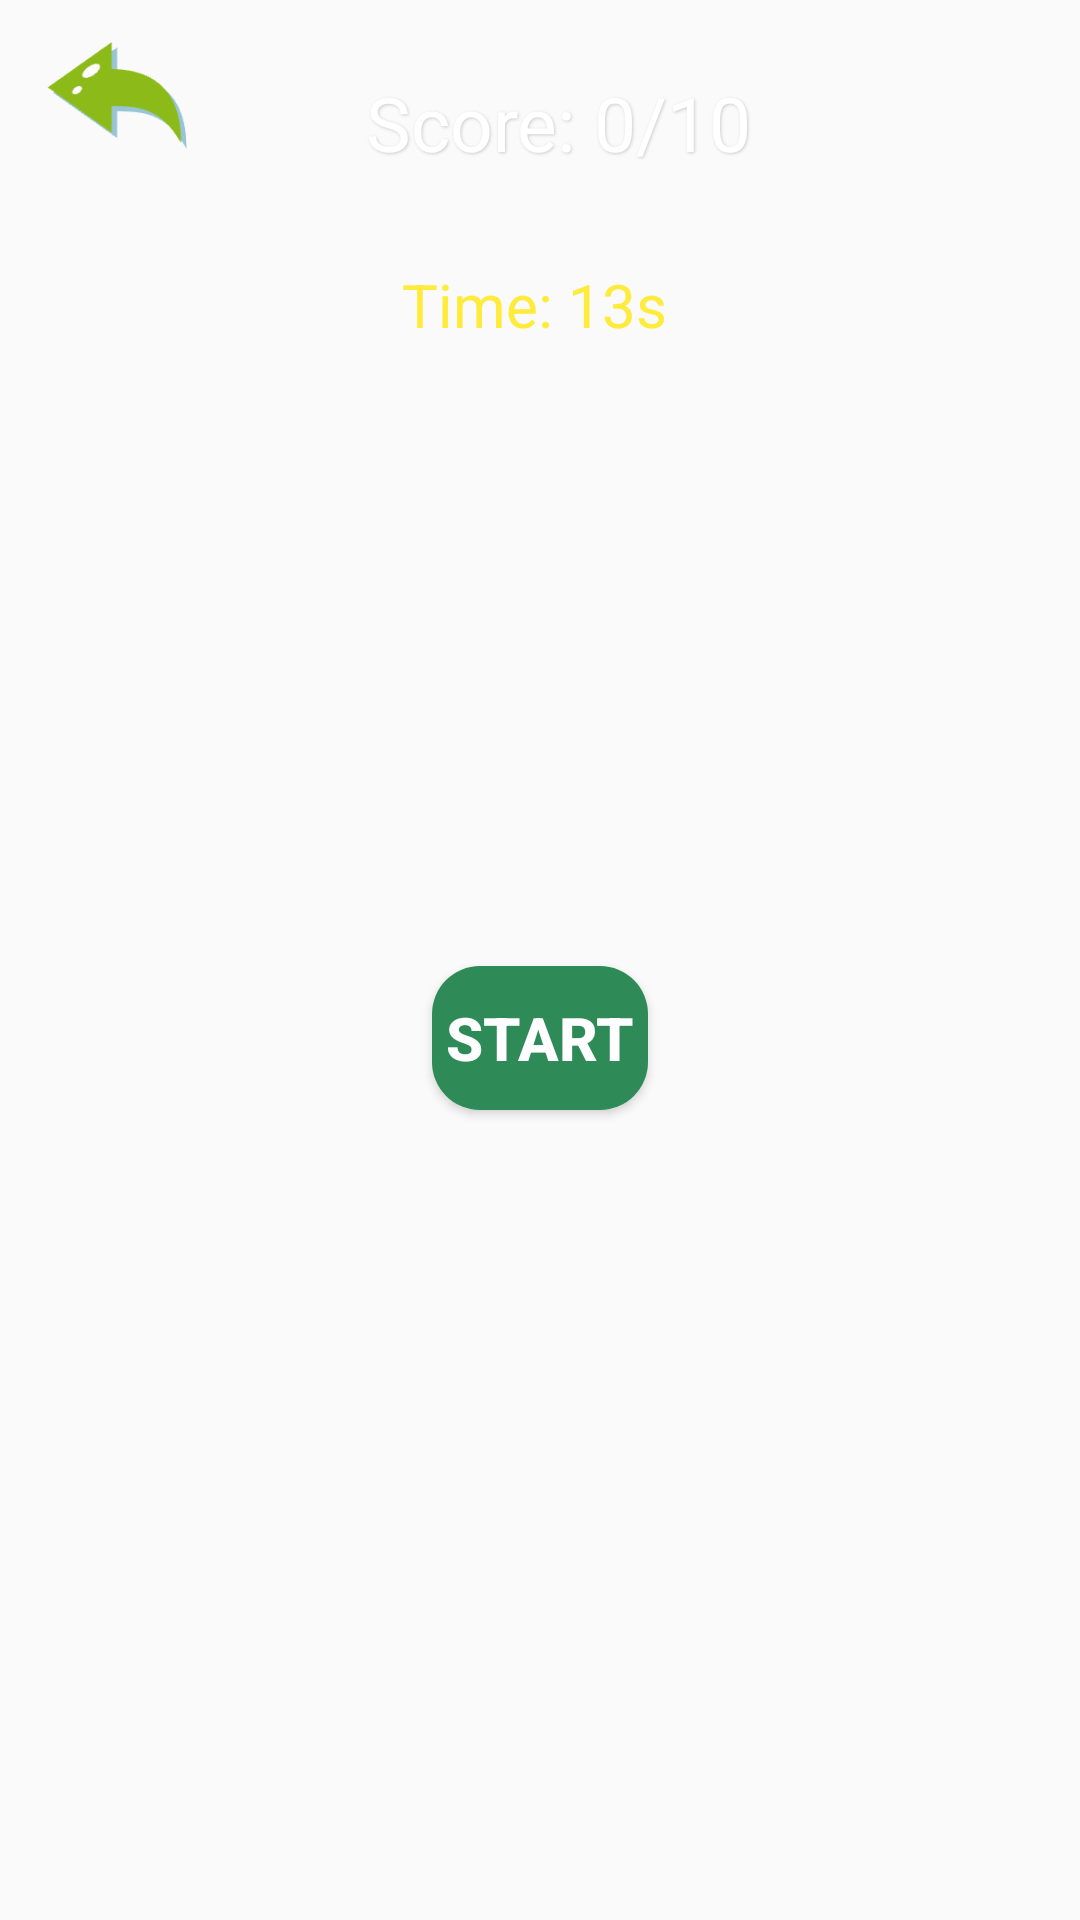

Where icons sit on this 1080px x 1920px app screen, as bbox(x1, y1, x2, y2):
Back: bbox(47, 42, 187, 149)
